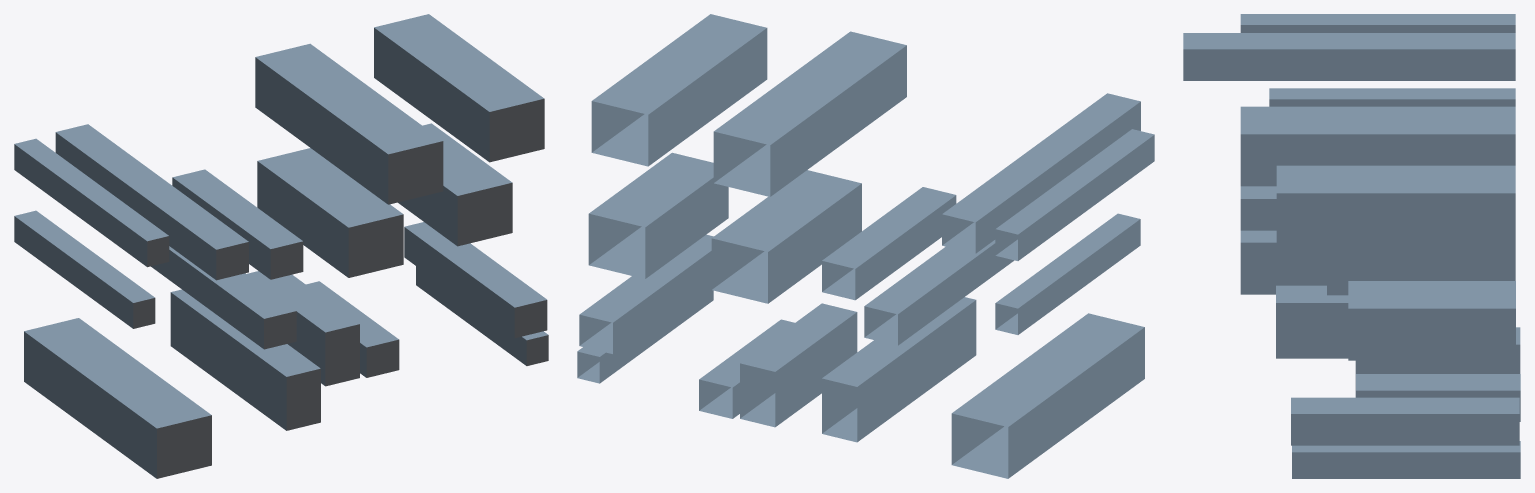
Rendered from island_bldg_13_09.obj.
The picture shows the model from 3 angles, left to right: view 1: azimuth 30°, elevation 25°; view 2: azimuth 150°, elevation 25°; view 3: azimuth 270°, elevation 25°; orthographic projection. The views are drawn at different scales.
Parts seen in each view (by area): view 1: island_bldg_13_09; view 2: island_bldg_13_09; view 3: island_bldg_13_09.
Part boxes in pixels (x1,y1,x2,y2): island_bldg_13_09: [14, 14, 548, 478]; island_bldg_13_09: [577, 14, 1154, 478]; island_bldg_13_09: [1183, 14, 1520, 478].
Bounding box in the file's own units: 248 × 152 × 165.
